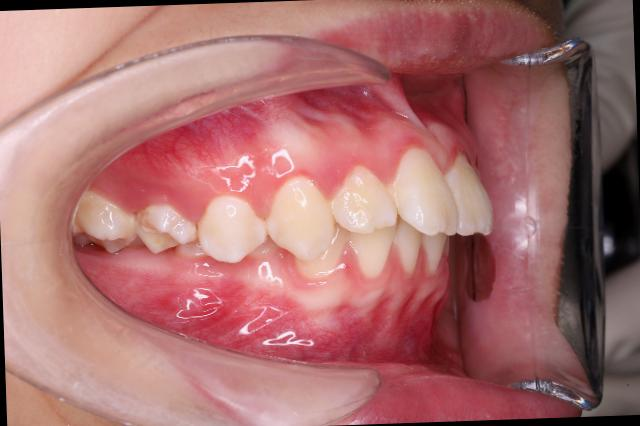canine class II 1/4: (240, 161, 348, 295)
